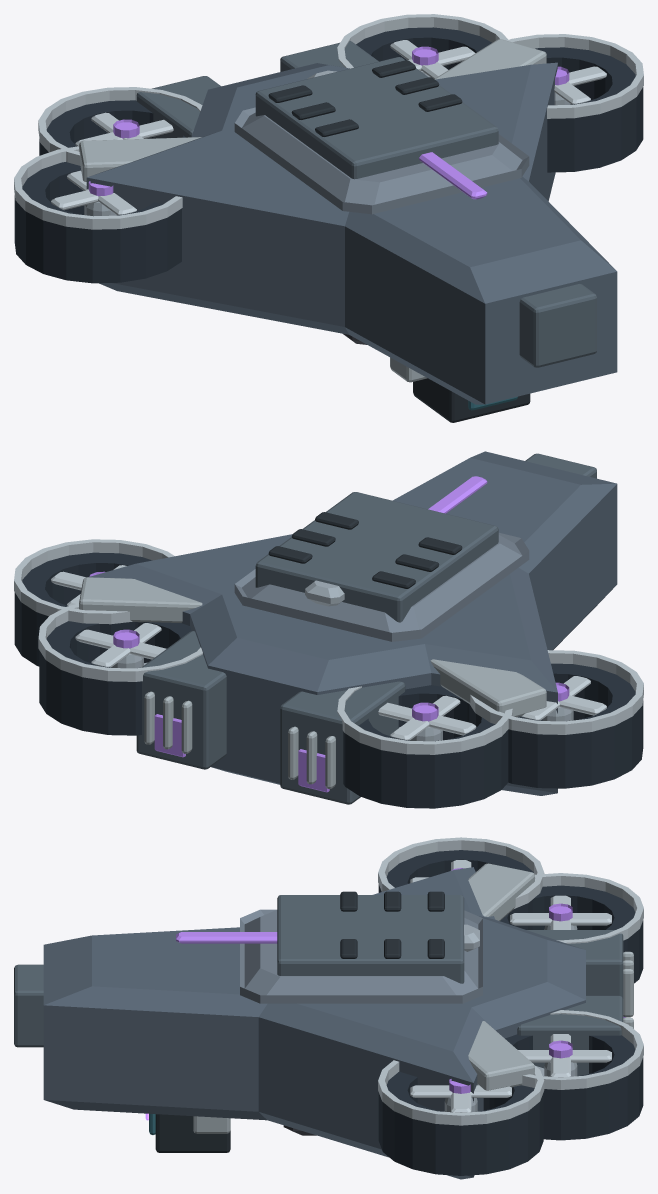
File: SF_InterceptorDrone_GV.fbx
The picture shows the model from 3 angles, top to bottom: view 1: azimuth 30°, elevation 25°; view 2: azimuth 150°, elevation 25°; view 3: azimuth 270°, elevation 25°; orthographic projection. The views are drawn at different scales.
Parts seen in each view (by area): view 1: InterceptorChassis, VU_InterceptorPrecisionAssembly, Rotor0, Rotor3, Rotor2, Rotor1; view 2: InterceptorChassis, VU_InterceptorPrecisionAssembly, Rotor2, Rotor3, Rotor0, Rotor1; view 3: InterceptorChassis, VU_InterceptorPrecisionAssembly, Rotor3, Rotor2, Rotor1.
Part boxes in pixels (x1=…): InterceptorChassis: x1=14, y1=14, x2=643, y2=404; VU_InterceptorPrecisionAssembly: x1=79, y1=39, x2=596, y2=422; Rotor0: x1=51, y1=170, x2=136, y2=215; Rotor3: x1=390, y1=40, x2=475, y2=78; Rotor2: x1=75, y1=112, x2=173, y2=146; Rotor1: x1=554, y1=66, x2=606, y2=105; InterceptorChassis: x1=14, y1=451, x2=643, y2=808; VU_InterceptorPrecisionAssembly: x1=79, y1=453, x2=596, y2=804; Rotor2: x1=378, y1=695, x2=476, y2=741; Rotor3: x1=75, y1=623, x2=166, y2=668; Rotor0: x1=521, y1=676, x2=606, y2=721; Rotor1: x1=51, y1=565, x2=126, y2=605; InterceptorChassis: x1=43, y1=837, x2=643, y2=1179; VU_InterceptorPrecisionAssembly: x1=14, y1=863, x2=633, y2=1152; Rotor3: x1=518, y1=1034, x2=611, y2=1077; Rotor2: x1=510, y1=895, x2=611, y2=929; Rotor1: x1=410, y1=1079, x2=511, y2=1112.
Size of the model in its own units: 211 by 75.5 by 202.
